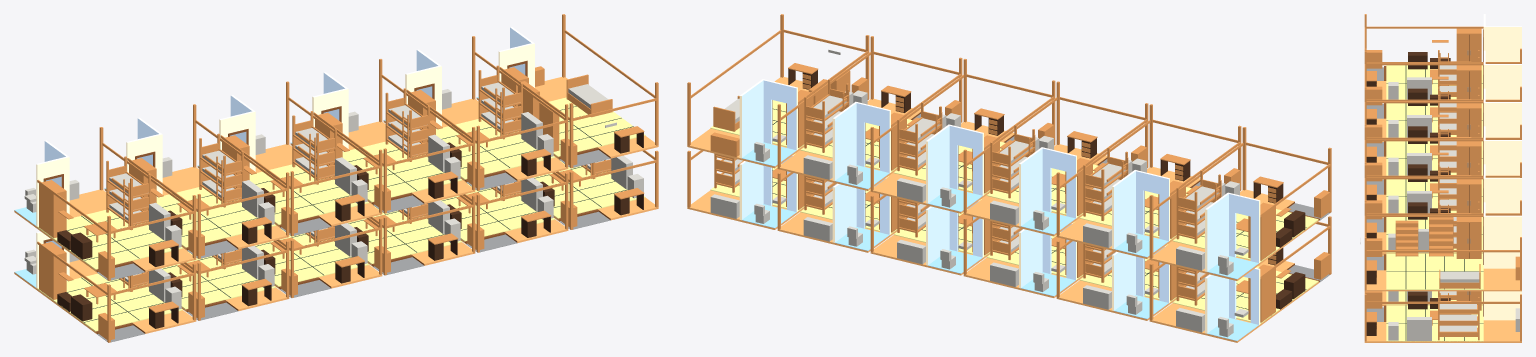
Rendered from SM_Slifer_Interior.fbx.
3 renders of one model, left to right at view 1: azimuth 30°, elevation 25°; view 2: azimuth 150°, elevation 25°; view 3: azimuth 270°, elevation 25°, orthographic. The views are drawn at different scales.
Parts seen in each view (by area): view 1: SM_Slifer_Interior; view 2: SM_Slifer_Interior; view 3: SM_Slifer_Interior.
Part boxes in pixels (x1,y1,x2,y2): SM_Slifer_Interior: (14,14,658,342); SM_Slifer_Interior: (687,14,1331,342); SM_Slifer_Interior: (1360,14,1521,342).
Size of the model in its own units: 25.6 by 5.6 by 7.83.
